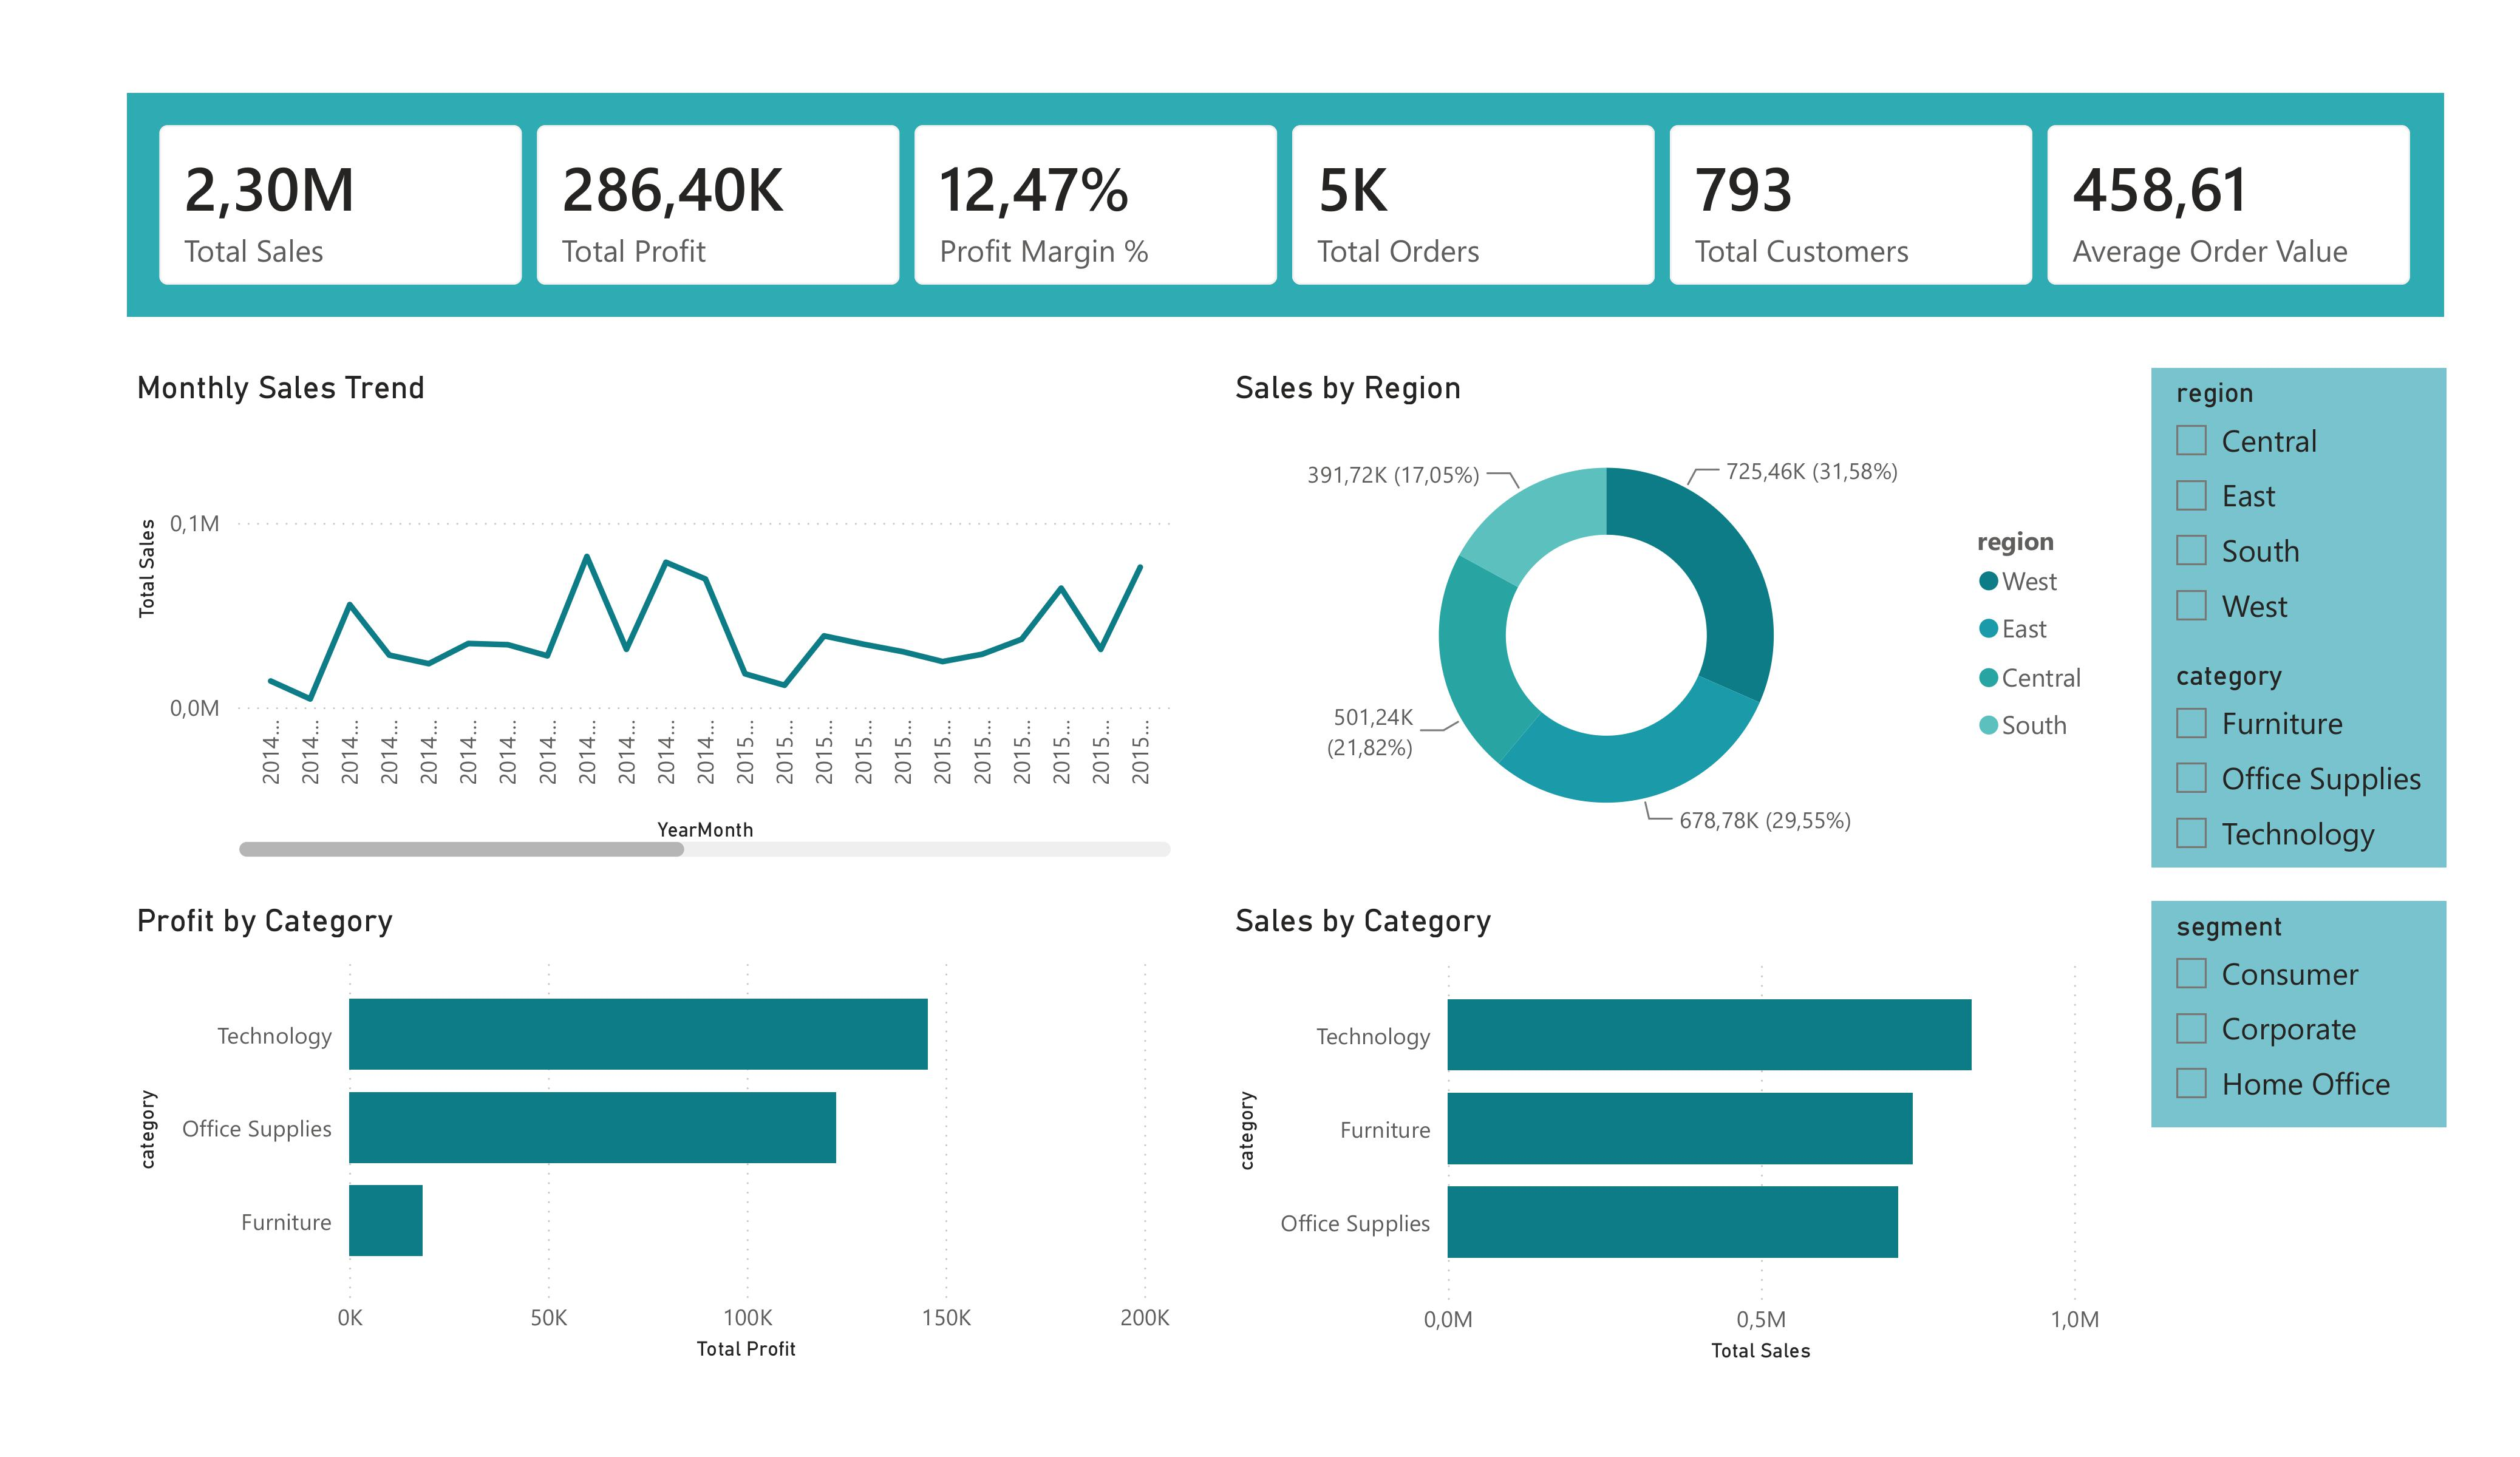

The dashboard page shown, as its layout file describes it:
{"tool":"powerbi","page":{"name":"Executive Overview","canvas":[1280,720],"ordinal":0},"visuals":[{"type":"cardVisual","fields":{"Data":["superstore_clean_202606170913.Total Sales","superstore_clean_202606170913.Total Profit","superstore_clean_202606170913.Profit Margin %","superstore_clean_202606170913.Total Orders","superstore_clean_202606170913.Total Customers","superstore_clean.Average Order Value"]},"box":[43.4,25,1221.1,118.4],"z":0},{"type":"lineChart","title":"Monthly Sales Trend","fields":{"Y":["superstore_clean_202606170913.Total Sales"],"Category":["superstore_clean.YearMonth"]},"box":[42.9,169.8,555.6,263.5],"z":1000},{"type":"clusteredBarChart","title":"Sales by Category","fields":{"Category":["superstore_clean.category"],"Y":["superstore_clean.Total Sales"]},"box":[622.4,451.3,465.8,247.4],"z":2000},{"type":"clusteredBarChart","title":"Profit by Category","fields":{"Category":["superstore_clean.category"],"Y":["superstore_clean.Total Profit"]},"box":[42.9,450.8,555.6,247.6],"z":3000},{"type":"slicer","fields":{"Values":["superstore_clean.region"]},"box":[1109.5,169.8,155.6,149.2],"z":4000},{"type":"slicer","fields":{"Values":["superstore_clean.category"]},"box":[1109.5,319,155.6,114.3],"z":5000},{"type":"slicer","fields":{"Values":["superstore_clean.segment"]},"box":[1109.5,450.8,155.6,119],"z":6000},{"type":"donutChart","title":"Sales by Region","fields":{"Y":["superstore_clean.Total Sales"],"Category":["superstore_clean.region"]},"box":[622.4,169.7,465.8,263.2],"z":7000}]}

Visuals, with their boxes on the page's 1280x720 design canvas (x1, y1, x2, y2). These are canvas units, not pixel positions in the 2520x1457 screenshot, which may show the page scaled, cropped or inside an application window:
cardVisual - superstore_clean_202606170913.Total Sales x superstore_clean_202606170913.Total Profit: [43, 25, 1264, 143]
"Monthly Sales Trend" lineChart: [43, 170, 598, 433]
"Sales by Category" clusteredBarChart: [622, 451, 1088, 699]
"Profit by Category" clusteredBarChart: [43, 451, 598, 698]
slicer - superstore_clean.region: [1110, 170, 1265, 319]
slicer - superstore_clean.category: [1110, 319, 1265, 433]
slicer - superstore_clean.segment: [1110, 451, 1265, 570]
"Sales by Region" donutChart: [622, 170, 1088, 433]
